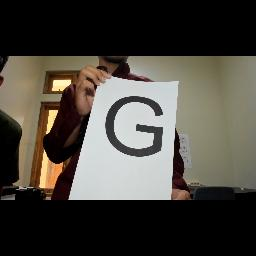g: (98, 90, 168, 162)
